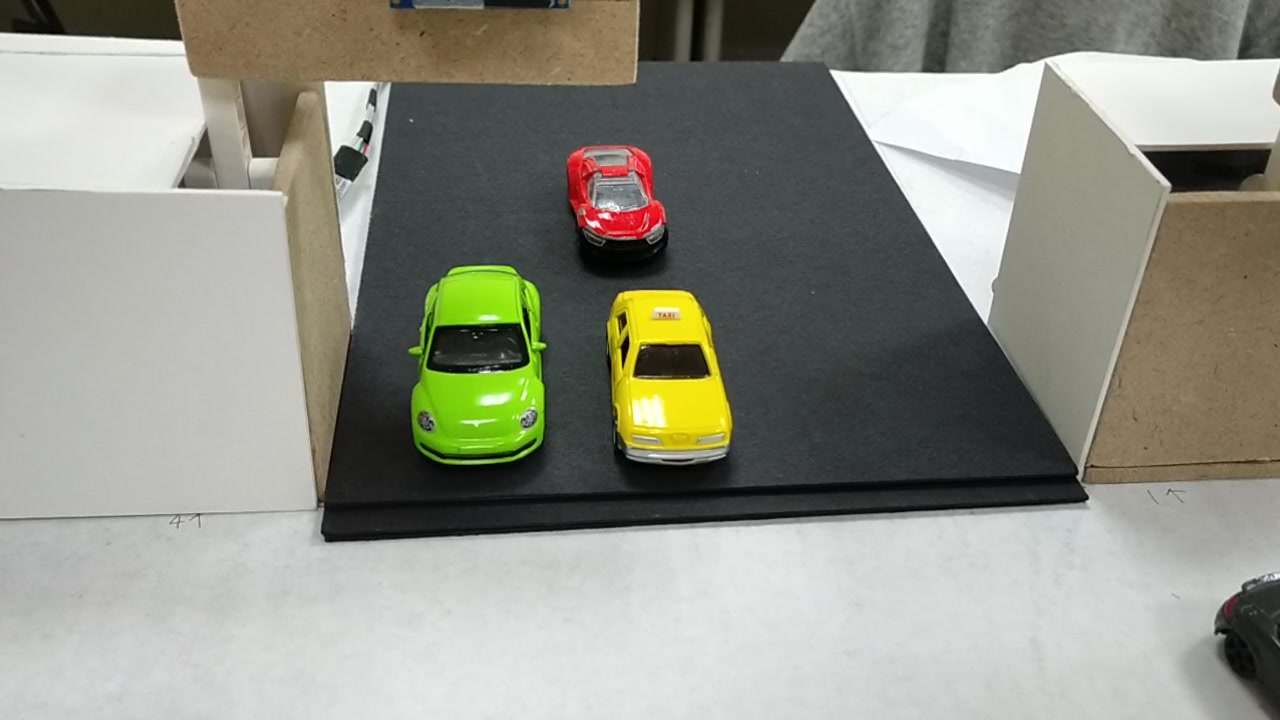car: (417, 275, 544, 457), (605, 292, 730, 465), (566, 148, 671, 254)
